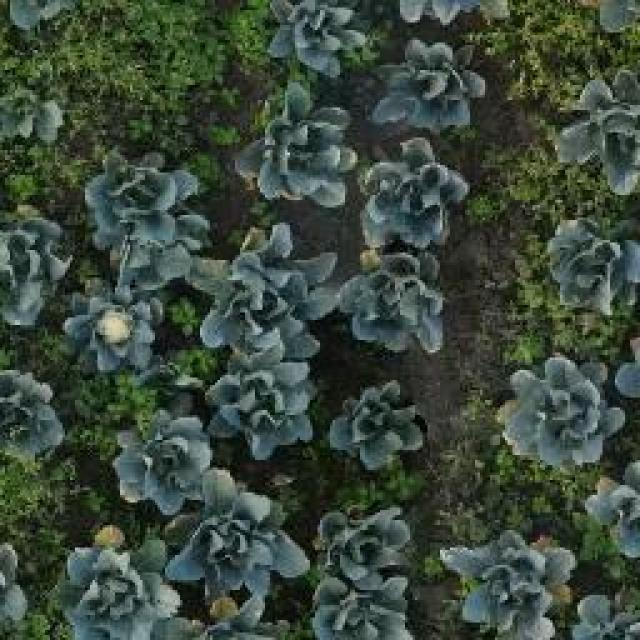cabbage: (177, 476, 310, 601), (197, 224, 339, 340), (242, 88, 356, 206), (89, 161, 205, 276), (450, 531, 566, 640), (208, 345, 318, 457), (361, 134, 470, 244), (60, 542, 182, 640), (109, 406, 220, 512), (498, 358, 605, 462), (336, 248, 447, 348), (545, 215, 640, 318), (328, 377, 423, 476), (382, 45, 488, 133), (555, 78, 640, 186), (68, 285, 164, 368), (316, 506, 414, 582), (265, 0, 370, 70), (0, 366, 71, 460), (0, 217, 62, 323), (312, 580, 412, 640), (583, 476, 640, 553), (0, 85, 70, 145)
